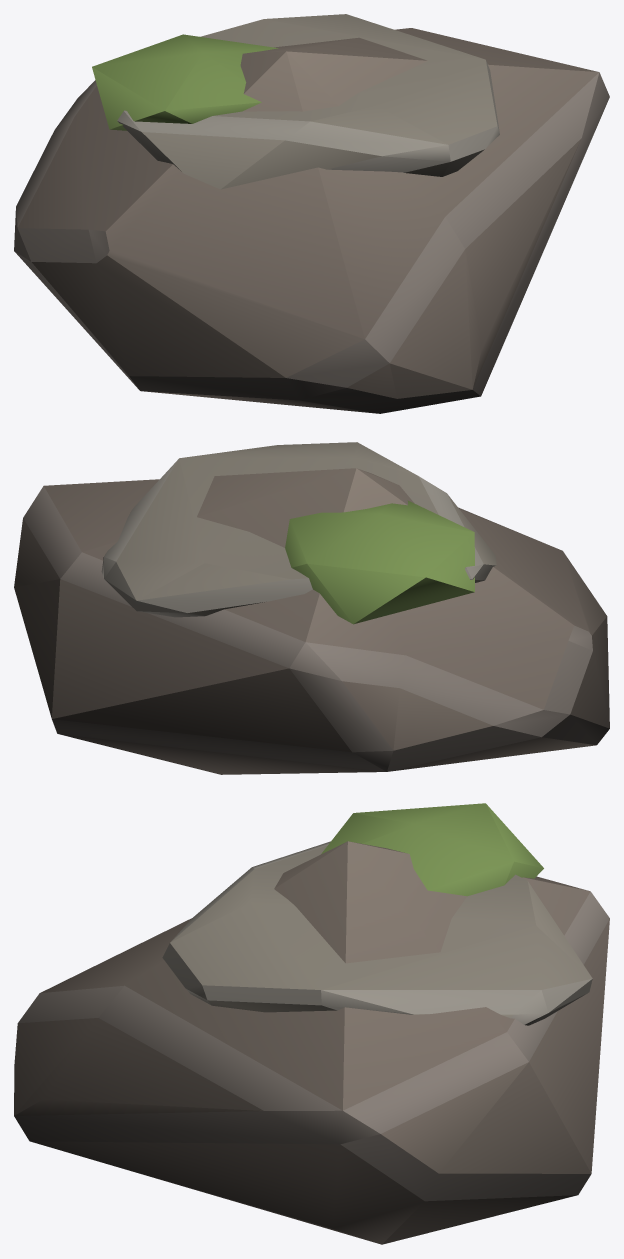
Rendered from CO_Rock_B.glb.
3 renders of one model, top to bottom at view 1: azimuth 30°, elevation 25°; view 2: azimuth 150°, elevation 25°; view 3: azimuth 270°, elevation 25°, orthographic. The views are drawn at different scales.
Parts seen in each view (by area): view 1: CO_Rock_B_1_Slate, CO_Rock_B_2_SmoothPlastic; view 2: CO_Rock_B_1_Slate, CO_Rock_B_2_SmoothPlastic; view 3: CO_Rock_B_1_Slate, CO_Rock_B_2_SmoothPlastic.
Part boxes in pixels (x1=…): CO_Rock_B_1_Slate: x1=14, y1=14, x2=609, y2=413; CO_Rock_B_2_SmoothPlastic: x1=92, y1=34, x2=278, y2=130; CO_Rock_B_1_Slate: x1=14, y1=442, x2=609, y2=774; CO_Rock_B_2_SmoothPlastic: x1=285, y1=500, x2=474, y2=624; CO_Rock_B_1_Slate: x1=14, y1=841, x2=609, y2=1244; CO_Rock_B_2_SmoothPlastic: x1=321, y1=803, x2=543, y2=896.
Bounding box in the file's own units: 3.96 × 1.77 × 3.38.
